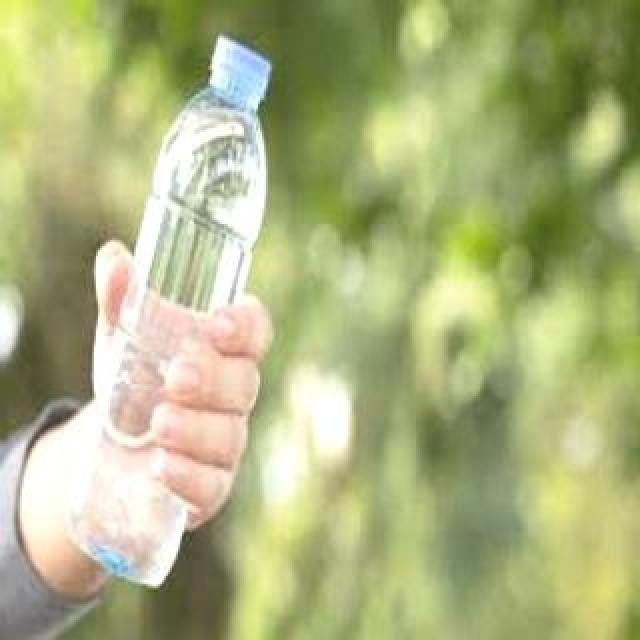Pet_Bottle: (65, 35, 277, 591)
